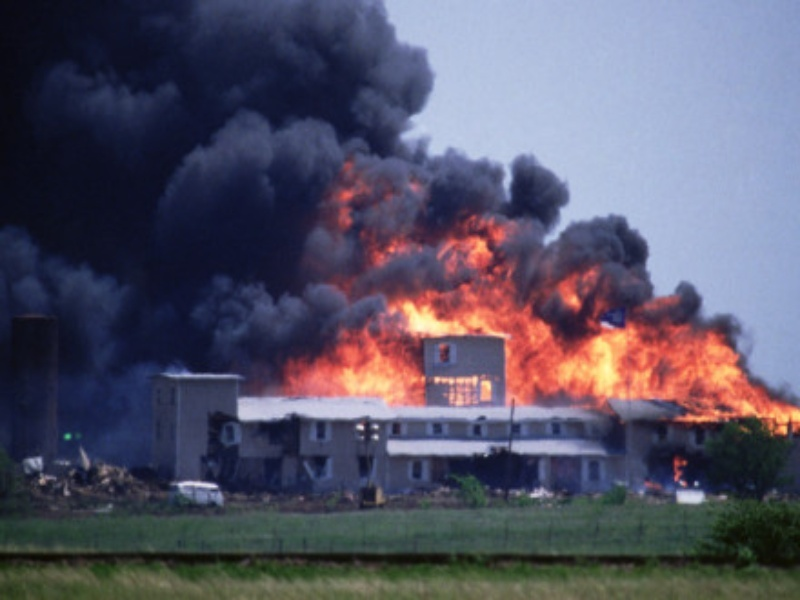smoke: (1, 1, 332, 374)
